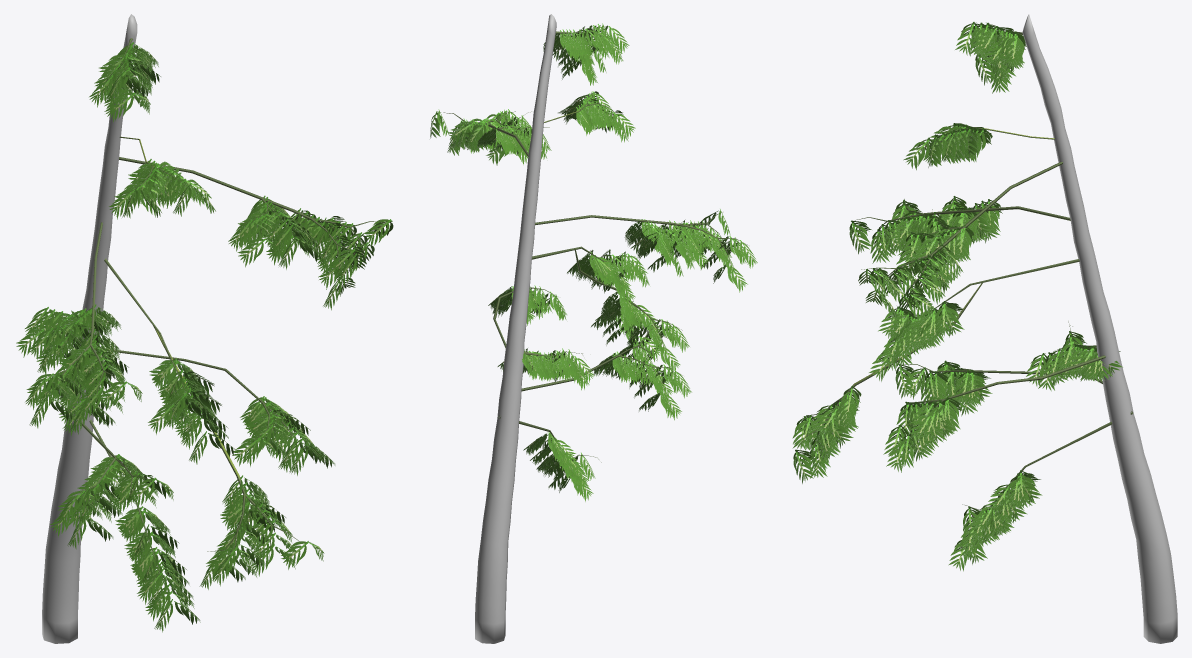
Rendered from Model_Guadua_02.fbx.
3 renders of one model, left to right at view 1: azimuth 30°, elevation 25°; view 2: azimuth 150°, elevation 25°; view 3: azimuth 270°, elevation 25°, orthographic. The views are drawn at different scales.
Visible parts, largest first — view 1: GLD01C.021, GuaduaTrunk.002; view 2: GLD01C.021, GuaduaTrunk.002; view 3: GLD01C.021, GuaduaTrunk.002.
Boxes of the visible parts, left/top/right/bottom form: GLD01C.021: left=16, top=42, right=393, bottom=632; GuaduaTrunk.002: left=39, top=14, right=386, bottom=643; GLD01C.021: left=430, top=23, right=757, bottom=501; GuaduaTrunk.002: left=440, top=14, right=747, bottom=643; GLD01C.021: left=792, top=22, right=1122, bottom=571; GuaduaTrunk.002: left=797, top=14, right=1177, bottom=643.
Size of the model in its own units: 11.72 by 20.08 by 11.38.
